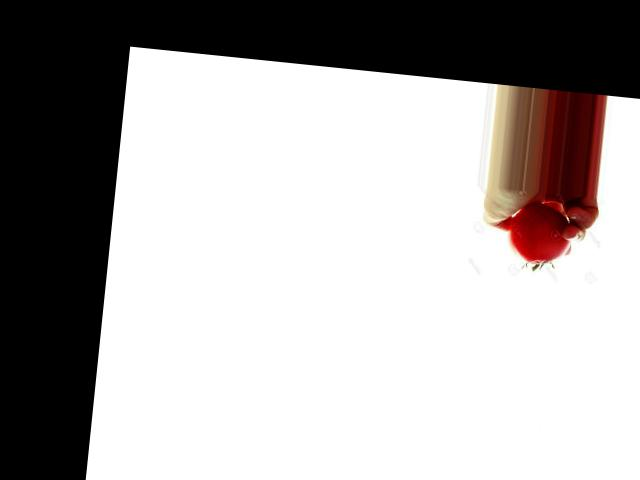tomato: (506, 200, 575, 268)
